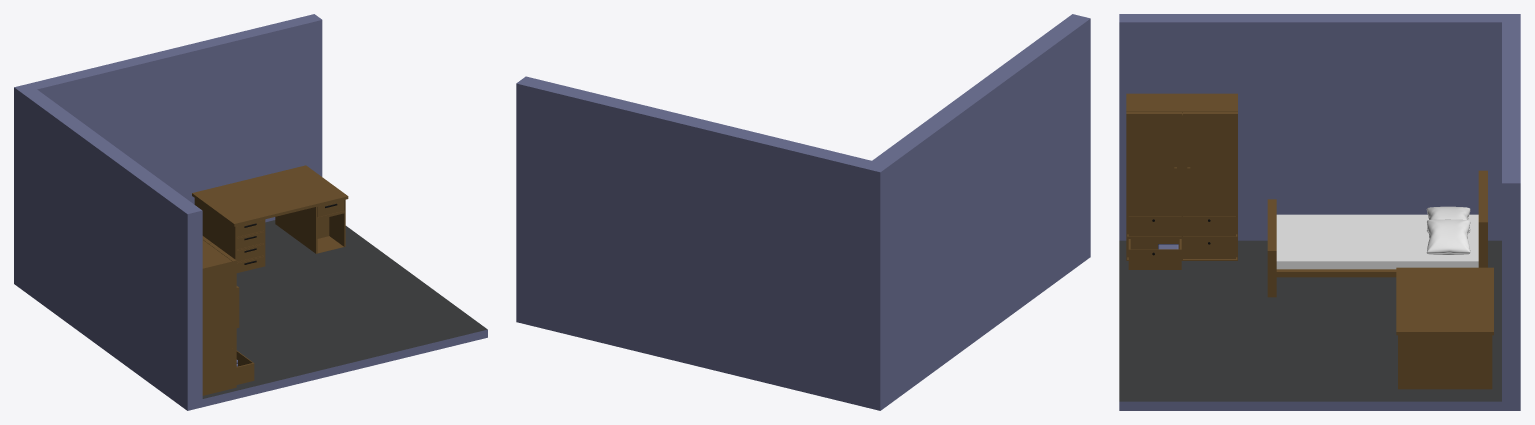
The model's file is Bedroom.gltf.
The picture shows the model from 3 angles, left to right: view 1: azimuth 30°, elevation 25°; view 2: azimuth 150°, elevation 25°; view 3: azimuth 270°, elevation 25°; orthographic projection. The views are drawn at different scales.
Parts seen in each view (by area): view 1: Room, desk, Wardrobe; view 2: Room; view 3: Room, Wardrobe, desk, bed, Bed Frame, pillow 2, pillow.
Part boxes in pixels (x1=…): Room: x1=14, y1=14, x2=487, y2=410; desk: x1=192, y1=165, x2=348, y2=272; Wardrobe: x1=202, y1=236, x2=254, y2=395; Room: x1=516, y1=14, x2=1090, y2=410; Room: x1=1119, y1=14, x2=1520, y2=410; Wardrobe: x1=1126, y1=93, x2=1237, y2=269; desk: x1=1396, y1=267, x2=1493, y2=389; bed: x1=1276, y1=214, x2=1478, y2=269; Bed Frame: x1=1267, y1=170, x2=1487, y2=297; pillow 2: x1=1426, y1=219, x2=1470, y2=254; pillow: x1=1426, y1=206, x2=1470, y2=232.
Bounding box in the file's own units: 2 × 1.25 × 2.
